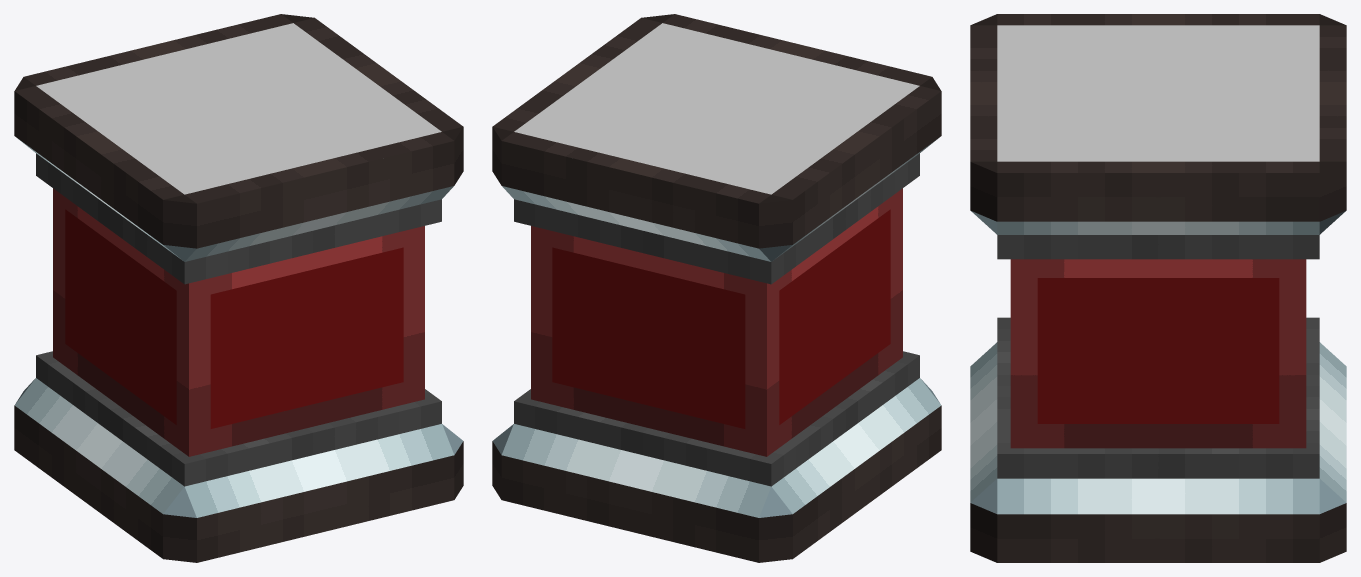
The model's file is terrarium_hells_inventory.obj.
3 views of the same model, side by side, from view 1: azimuth 30°, elevation 25°; view 2: azimuth 150°, elevation 25°; view 3: azimuth 270°, elevation 25° (orthographic). The views are drawn at different scales.
Visible parts, largest first — view 1: TERRARIUM_BASE_SMALLER_LID_Cube.030, TERRARIUM_GLASS_SHORT_RED_Cube.047, TERRARIUM_BASE_SMALLER_Cube.015; view 2: TERRARIUM_BASE_SMALLER_LID_Cube.030, TERRARIUM_GLASS_SHORT_RED_Cube.047, TERRARIUM_BASE_SMALLER_Cube.015; view 3: TERRARIUM_BASE_SMALLER_LID_Cube.030, TERRARIUM_GLASS_SHORT_RED_Cube.047, TERRARIUM_BASE_SMALLER_Cube.015.
Part boxes in pixels (x1,y1,x2,y2): TERRARIUM_BASE_SMALLER_LID_Cube.030: (14,14,463,284); TERRARIUM_GLASS_SHORT_RED_Cube.047: (53,188,424,456); TERRARIUM_BASE_SMALLER_Cube.015: (14,351,463,562); TERRARIUM_BASE_SMALLER_LID_Cube.030: (492,14,941,284); TERRARIUM_GLASS_SHORT_RED_Cube.047: (531,188,902,456); TERRARIUM_BASE_SMALLER_Cube.015: (492,351,941,562); TERRARIUM_BASE_SMALLER_LID_Cube.030: (970,14,1346,259); TERRARIUM_GLASS_SHORT_RED_Cube.047: (1010,259,1306,448); TERRARIUM_BASE_SMALLER_Cube.015: (970,317,1346,562).
Bounding box in the file's own units: 0.875 × 1 × 0.875.
